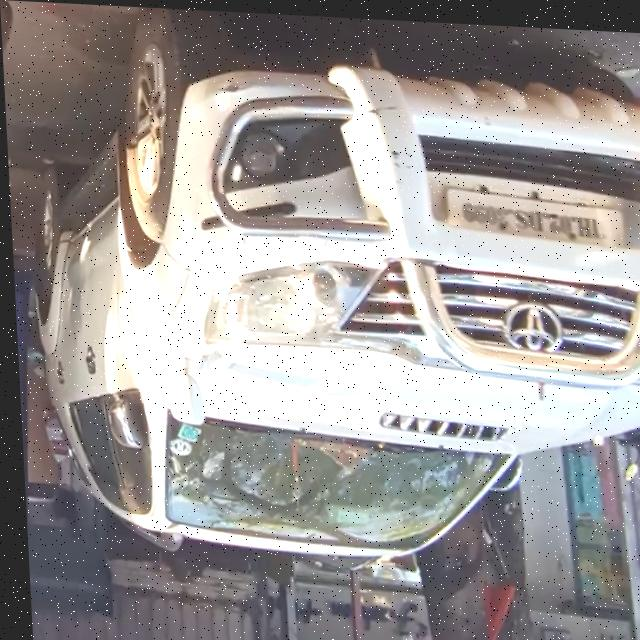plate: (441, 182, 625, 244)
